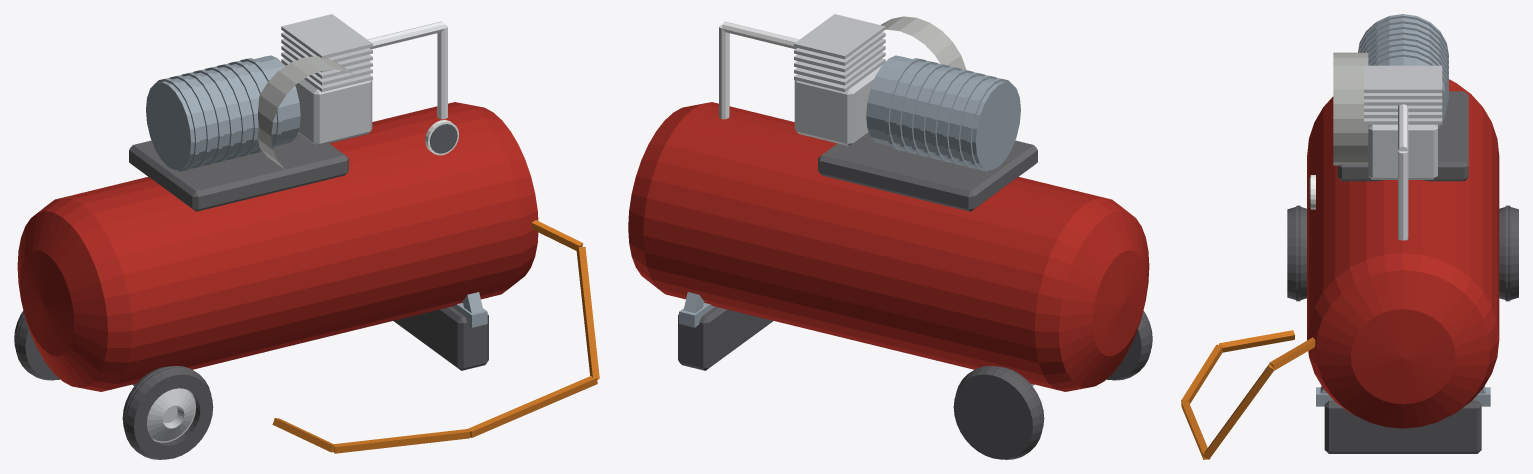
Rendered from compressor_ar.glb.
3 views of the same model, side by side, from view 1: azimuth 30°, elevation 25°; view 2: azimuth 150°, elevation 25°; view 3: azimuth 270°, elevation 25° (orthographic). The views are drawn at different scales.
Visible parts, largest first — view 1: compressor_ar_tinta_vermelha, compressor_ar_aco_pintado, compressor_ar_aco, compressor_ar_borracha, compressor_ar_esmalte_escuro, compressor_ar_laranja_seg, compressor_ar_tela_galinheiro, compressor_ar_aco_polido, compressor_ar_vidro_escuro; view 2: compressor_ar_tinta_vermelha, compressor_ar_aco_pintado, compressor_ar_borracha, compressor_ar_aco, compressor_ar_esmalte_escuro, compressor_ar_aco_polido, compressor_ar_tela_galinheiro; view 3: compressor_ar_tinta_vermelha, compressor_ar_borracha, compressor_ar_aco, compressor_ar_aco_pintado, compressor_ar_tela_galinheiro, compressor_ar_laranja_seg, compressor_ar_esmalte_escuro, compressor_ar_aco_polido.
Part boxes in pixels (<box>): compressor_ar_tinta_vermelha: <box>17,102,538,391</box>; compressor_ar_aco_pintado: <box>132,55,487,385</box>; compressor_ar_aco: <box>40,14,372,442</box>; compressor_ar_borracha: <box>14,306,488,459</box>; compressor_ar_esmalte_escuro: <box>129,132,348,211</box>; compressor_ar_laranja_seg: <box>272,220,599,453</box>; compressor_ar_tela_galinheiro: <box>258,56,356,169</box>; compressor_ar_aco_polido: <box>367,21,447,119</box>; compressor_ar_vidro_escuro: <box>430,124,457,153</box>; compressor_ar_tinta_vermelha: <box>628,102,1149,391</box>; compressor_ar_aco_pintado: <box>679,55,1034,385</box>; compressor_ar_borracha: <box>678,306,1152,459</box>; compressor_ar_aco: <box>794,14,885,146</box>; compressor_ar_esmalte_escuro: <box>818,132,1037,211</box>; compressor_ar_aco_polido: <box>719,21,799,119</box>; compressor_ar_tela_galinheiro: <box>881,16,966,69</box>; compressor_ar_tinta_vermelha: <box>1307,79,1499,428</box>; compressor_ar_borracha: <box>1287,205,1518,453</box>; compressor_ar_aco: <box>1364,65,1442,179</box>; compressor_ar_aco_pintado: <box>1316,14,1490,406</box>; compressor_ar_tela_galinheiro: <box>1333,52,1368,165</box>; compressor_ar_laranja_seg: <box>1181,330,1315,459</box>; compressor_ar_esmalte_escuro: <box>1337,91,1468,181</box>; compressor_ar_aco_polido: <box>1398,104,1408,240</box>.
Size of the model in its own units: 1.21 by 0.81 by 0.7736.
